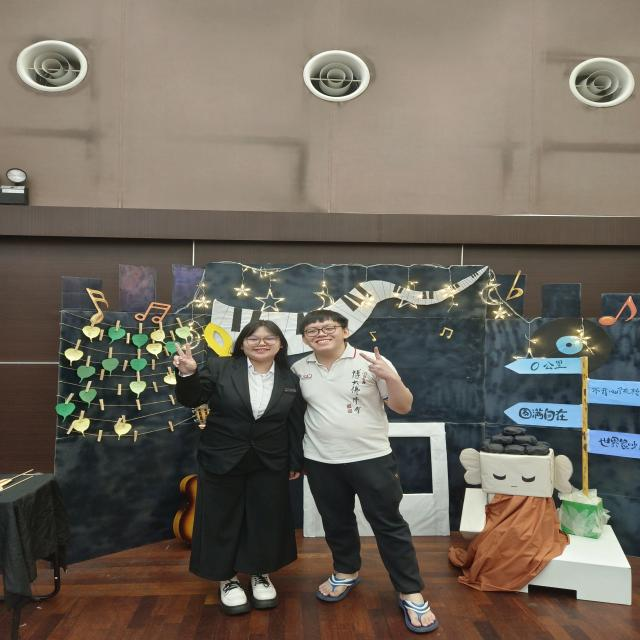person_without_labcoat: (291, 309, 437, 632), (174, 320, 305, 614)
